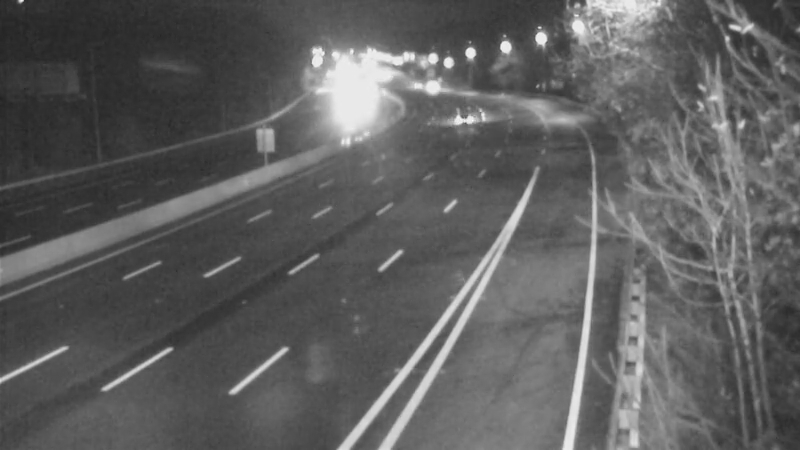vehicle: (387, 60, 437, 110), (406, 65, 456, 115), (441, 92, 491, 142)
